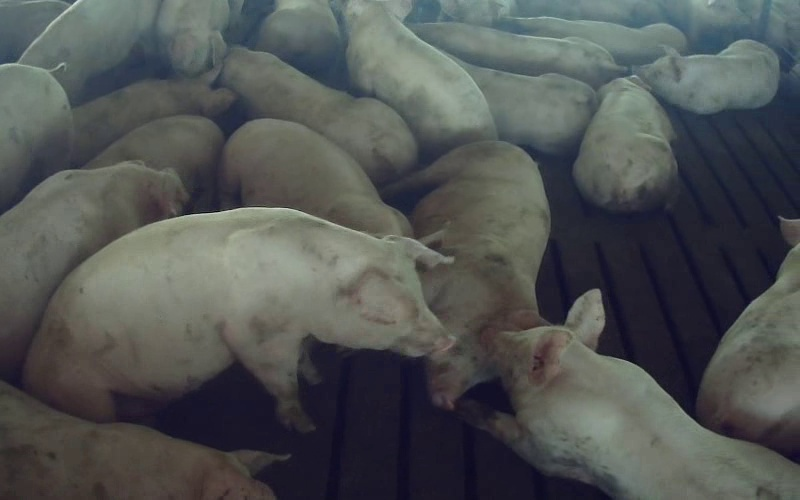pig: (465, 290, 799, 499), (385, 141, 549, 408), (0, 162, 188, 379), (221, 48, 417, 184), (697, 218, 799, 459), (345, 0, 496, 162), (218, 119, 412, 236), (71, 64, 235, 166), (408, 22, 625, 88), (573, 76, 677, 212), (635, 40, 779, 113), (497, 17, 687, 65), (156, 0, 228, 75)
